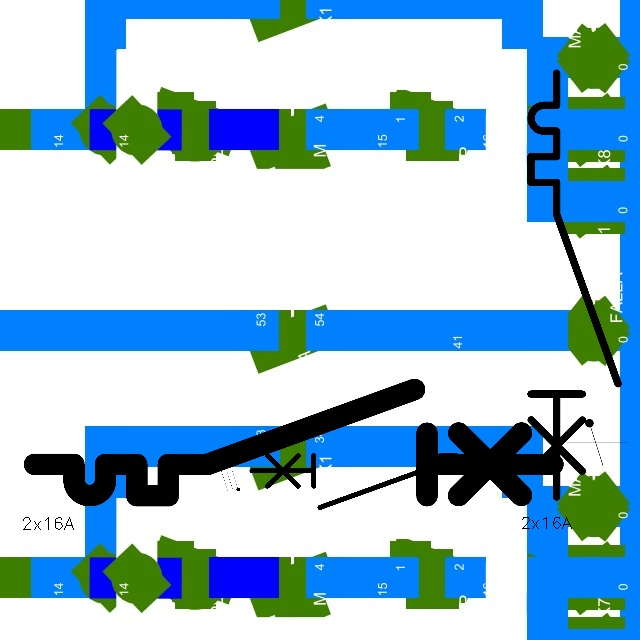interruptor_termomagnetico: (21, 376, 566, 509), (520, 62, 629, 508), (245, 449, 513, 514)
